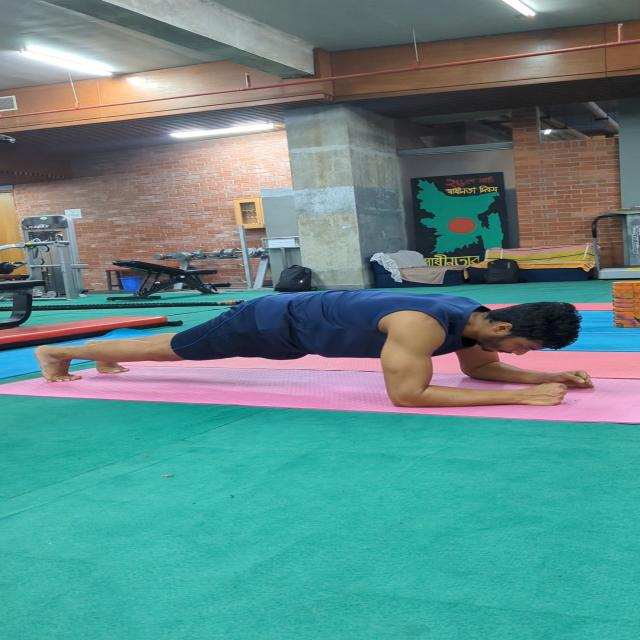Normal_Plunk: (26, 282, 608, 419)
